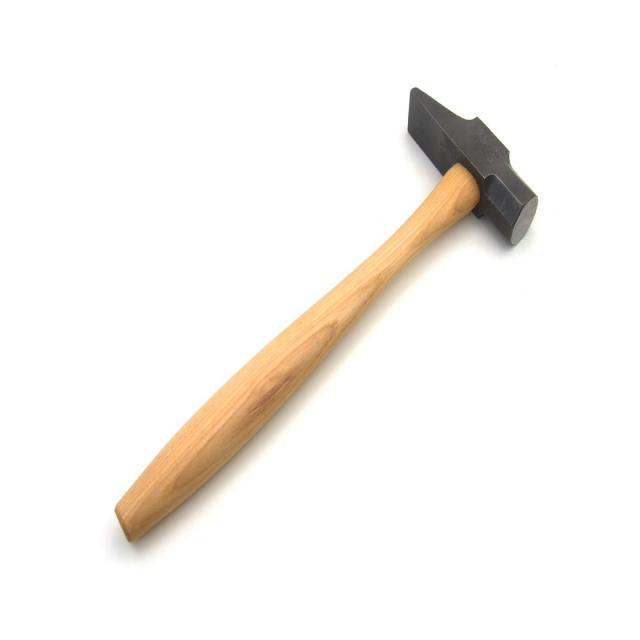hammer: (111, 81, 540, 548)
